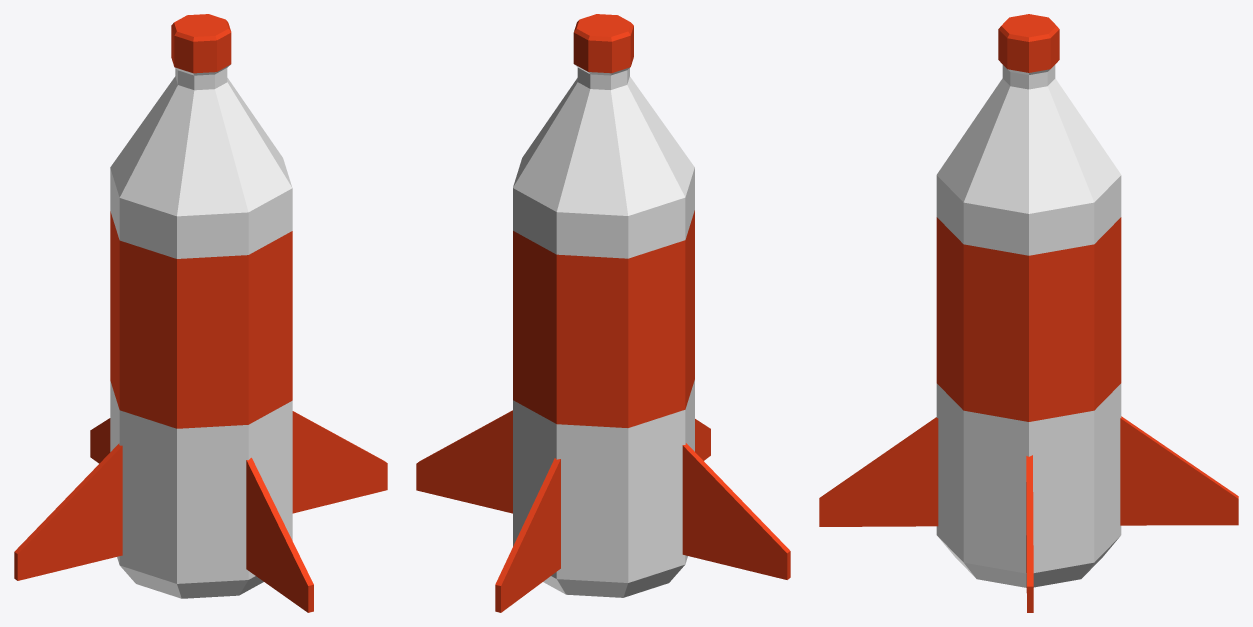
File: PetBottle_Rocket_Red.fbx
3 renders of one model, left to right at view 1: azimuth 30°, elevation 25°; view 2: azimuth 150°, elevation 25°; view 3: azimuth 270°, elevation 25°, orthographic. The views are drawn at different scales.
Visible parts, largest first — view 1: PetBottle, Feather; view 2: PetBottle, Feather; view 3: PetBottle, Feather.
Part boxes in pixels (x1=…): PetBottle: x1=110, y1=14, x2=292, y2=598; Feather: x1=14, y1=411, x2=387, y2=612; PetBottle: x1=513, y1=14, x2=694, y2=597; Feather: x1=416, y1=410, x2=790, y2=612; PetBottle: x1=936, y1=14, x2=1121, y2=587; Feather: x1=819, y1=416, x2=1238, y2=612.
Size of the model in its own units: 31.75 by 44.4 by 31.75.
